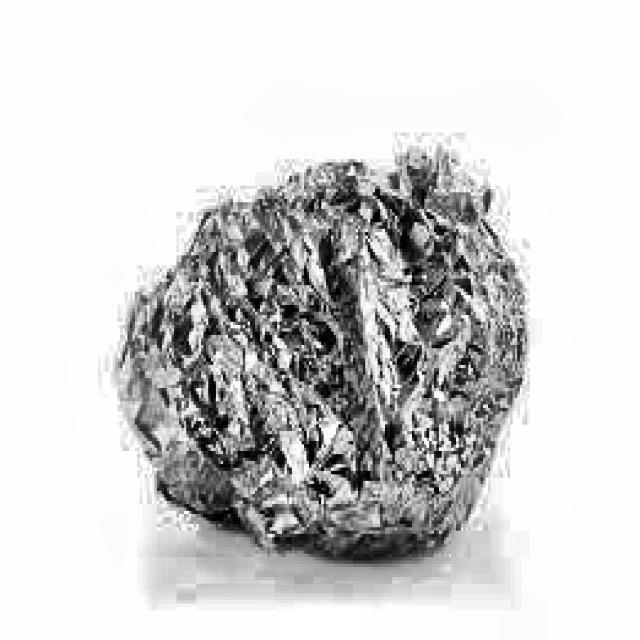Foil: (108, 135, 534, 561)
